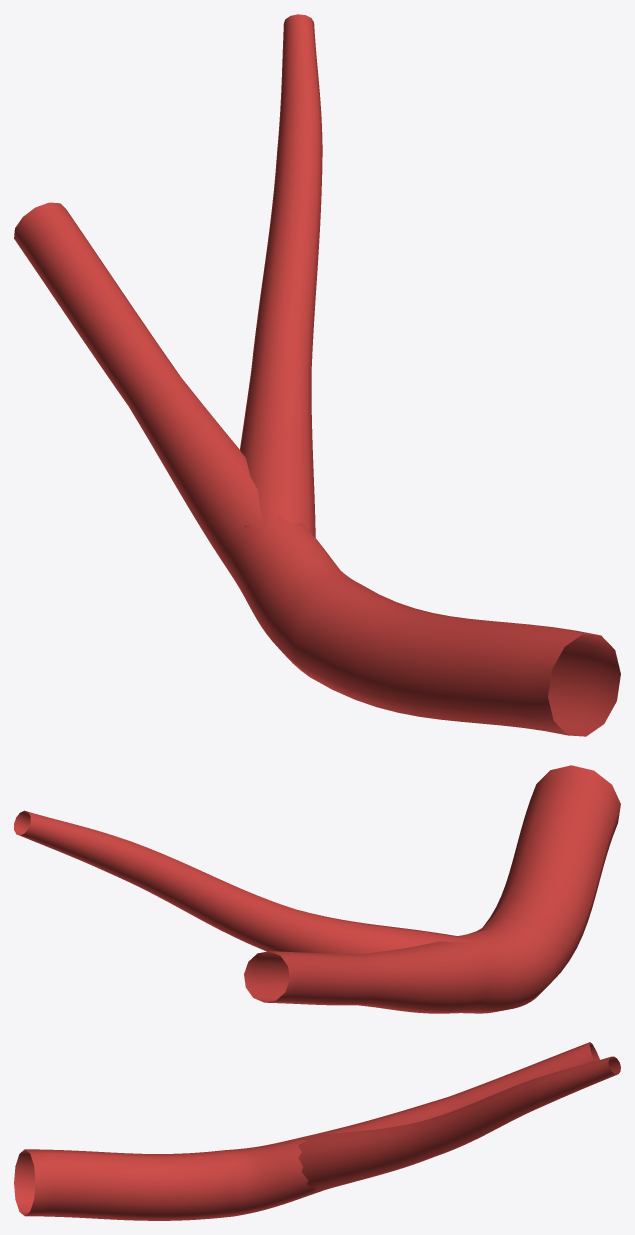
The picture shows the model from 3 angles, top to bottom: view 1: azimuth 30°, elevation 25°; view 2: azimuth 150°, elevation 25°; view 3: azimuth 270°, elevation 25°; orthographic projection. The views are drawn at different scales.
Visible parts, largest first — view 1: 左肺内侧底段动脉; view 2: 左肺内侧底段动脉; view 3: 左肺内侧底段动脉.
Boxes of the visible parts, bbox=[...] form: 左肺内侧底段动脉: bbox=[14, 14, 620, 736]; 左肺内侧底段动脉: bbox=[14, 765, 620, 1013]; 左肺内侧底段动脉: bbox=[14, 1042, 620, 1220].
Size of the model in its own units: 0.0367 by 0.0406 by 0.0935.
